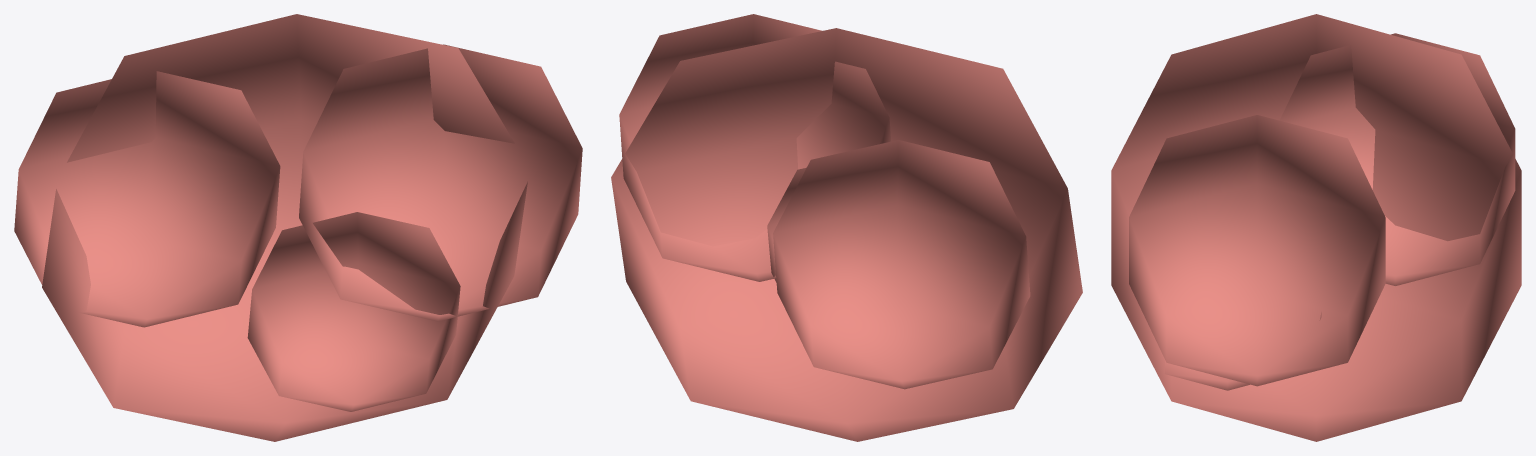
Rendered from protein.glb.
3 views of the same model, side by side, from view 1: azimuth 30°, elevation 25°; view 2: azimuth 150°, elevation 25°; view 3: azimuth 270°, elevation 25° (orthographic). The views are drawn at different scales.
Visible parts, largest first — view 1: Lump0, Lump1, Lump2, Lump3; view 2: Lump0, Lump2, Lump1, Lump3; view 3: Lump0, Lump1, Lump2, Lump3.
Part boxes in pixels (x1,y1,x2,y2): Lump0: (42,14,527,441); Lump1: (299,44,582,321); Lump2: (14,71,280,327); Lump3: (247,212,460,411); Lump0: (611,28,1082,441); Lump2: (773,140,1030,389); Lump1: (619,14,891,281); Lump3: (767,167,806,282); Lump0: (1111,14,1521,441); Lump1: (1129,115,1385,386); Lump2: (1279,33,1515,285); Lump3: (1164,312,1321,390).
Bounding box in the file's own units: 1 × 0.7304 × 0.7229.
